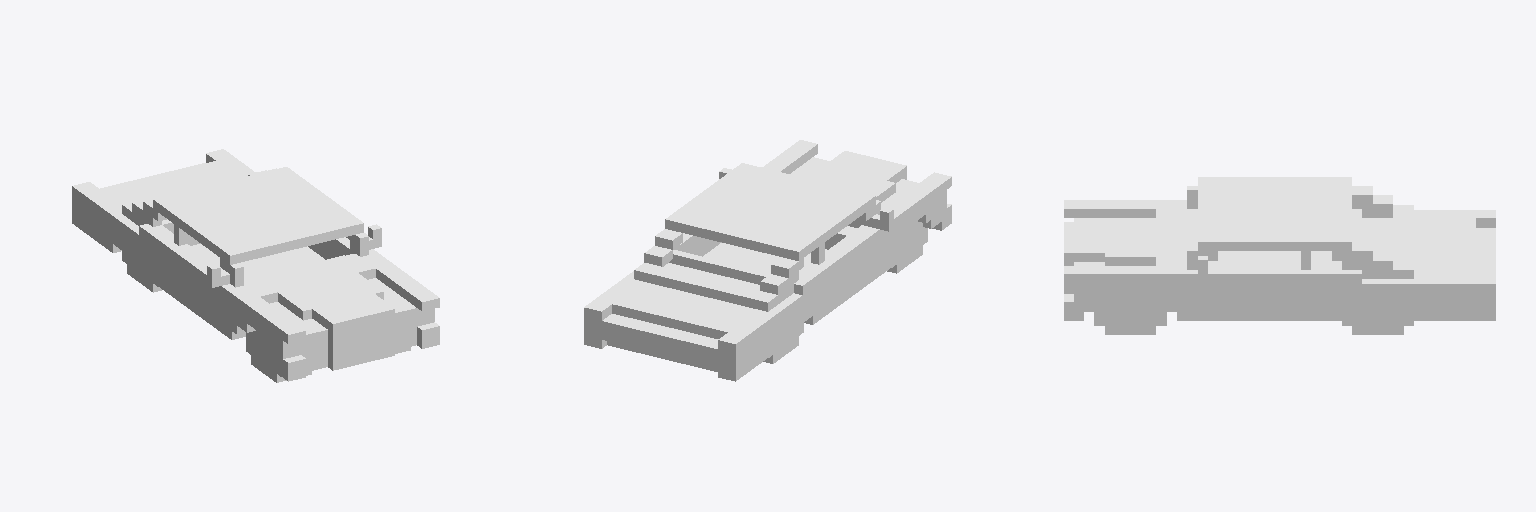
Rendered from CarRed-1.obj.
3 renders of one model, left to right at view 1: azimuth 30°, elevation 25°; view 2: azimuth 150°, elevation 25°; view 3: azimuth 270°, elevation 25°, orthographic.
Visible parts, largest first — view 1: object 1; view 2: object 1; view 3: object 1.
Part boxes in pixels (bbox=[...]): object 1: bbox=[72, 149, 439, 382]; object 1: bbox=[584, 140, 951, 381]; object 1: bbox=[1064, 177, 1495, 334].
Bounding box in the file's own units: 1.9 × 1 × 4.2.